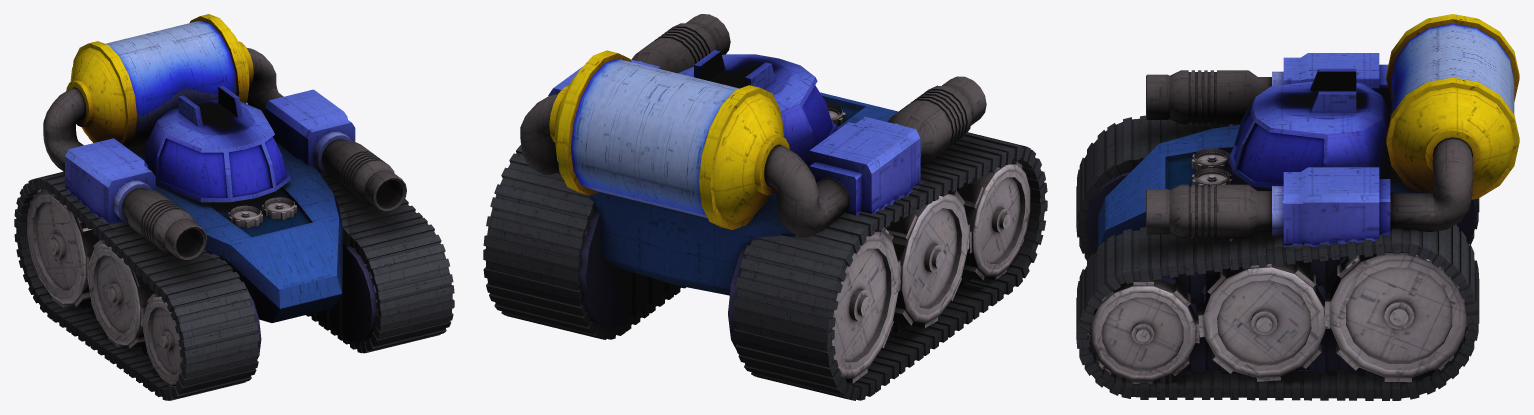
Rendered from PlayerB1.obj.
3 renders of one model, left to right at view 1: azimuth 30°, elevation 25°; view 2: azimuth 150°, elevation 25°; view 3: azimuth 270°, elevation 25°, orthographic. The views are drawn at different scales.
Visible parts, largest first — view 1: Object001, Box042, Object004, Object003, Object002; view 2: Object001, Box042, Object003, Object004, Object002; view 3: Object001, Box042, Object004, Object003, Object002.
Part boxes in pixels (box(x1,y1,x2,y2)): Object001: box(43, 14, 406, 359); Box042: box(14, 171, 454, 400); Object004: box(27, 189, 99, 307); Object003: box(87, 240, 154, 348); Object002: box(143, 293, 182, 386); Object001: box(520, 14, 986, 354); Box042: box(483, 132, 1047, 400); Object003: box(888, 190, 969, 328); Object004: box(832, 227, 900, 383); Object002: box(958, 160, 1030, 280); Object001: box(1085, 14, 1519, 374); Box042: box(1076, 115, 1479, 400); Object004: box(1324, 252, 1467, 382); Object003: box(1198, 261, 1330, 381); Object002: box(1087, 278, 1199, 384).
Size of the model in its own units: 121 by 101 by 147.
2 materials, 2 textured.
